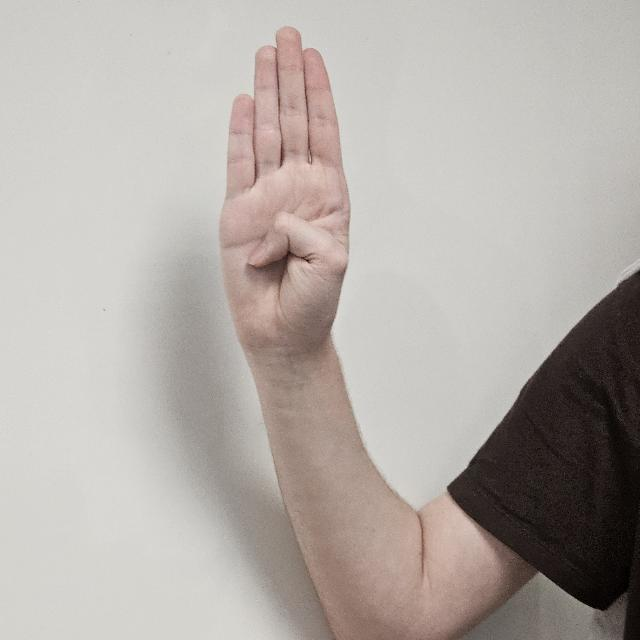Baixo: (218, 21, 368, 417)
